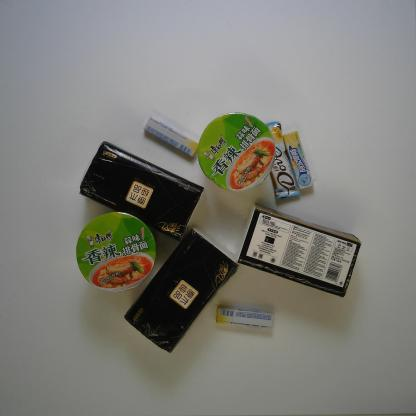Candy: (143, 116, 199, 157), (283, 131, 314, 190), (216, 306, 274, 330)
Chocolate: (262, 121, 302, 200)
Instant Noodles: (76, 211, 156, 293), (197, 112, 276, 192)
Tissue: (124, 227, 239, 354), (78, 140, 205, 242), (237, 201, 361, 298)
